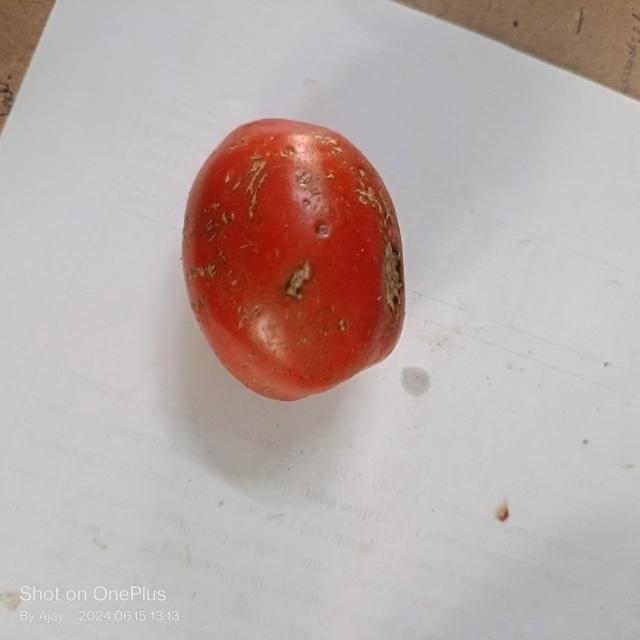Bacterial_Spot: (284, 258, 314, 300), (314, 220, 333, 238), (334, 314, 350, 331)
